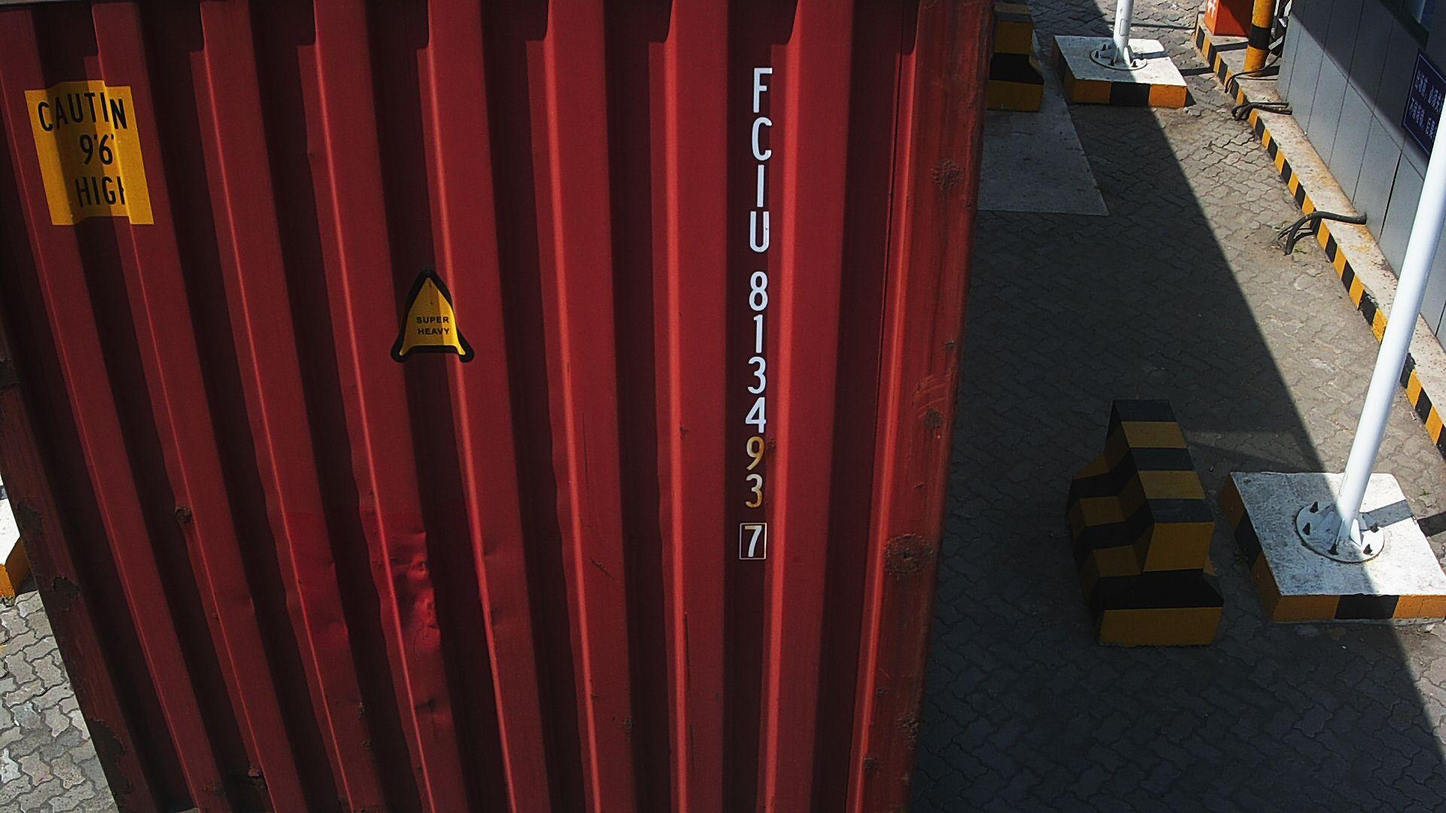container-numbers: (731, 58, 776, 567)
